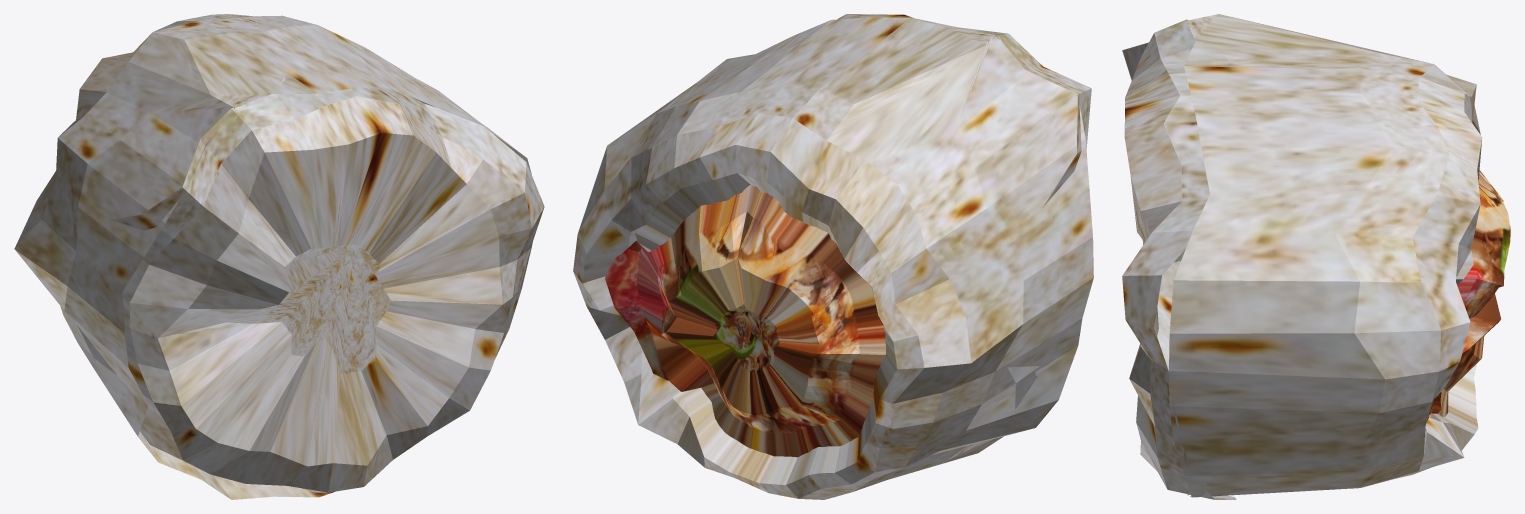
Rendered from durumPartido.fbx.
3 views of the same model, side by side, from view 1: azimuth 30°, elevation 25°; view 2: azimuth 150°, elevation 25°; view 3: azimuth 270°, elevation 25° (orthographic). The views are drawn at different scales.
Parts seen in each view (by area): view 1: Cylinder.004; view 2: Cylinder.004, Cylinder.003; view 3: Cylinder.004, Cylinder.003.
Boxes of the visible parts, x1,y1,x2,y2 form: Cylinder.004: (14,14,544,499); Cylinder.004: (573,14,1093,499); Cylinder.003: (605,185,886,457); Cylinder.004: (1122,14,1482,499); Cylinder.003: (1427,170,1510,420).
Size of the model in its own units: 199 by 196 by 164.
2 materials, 2 textured.
